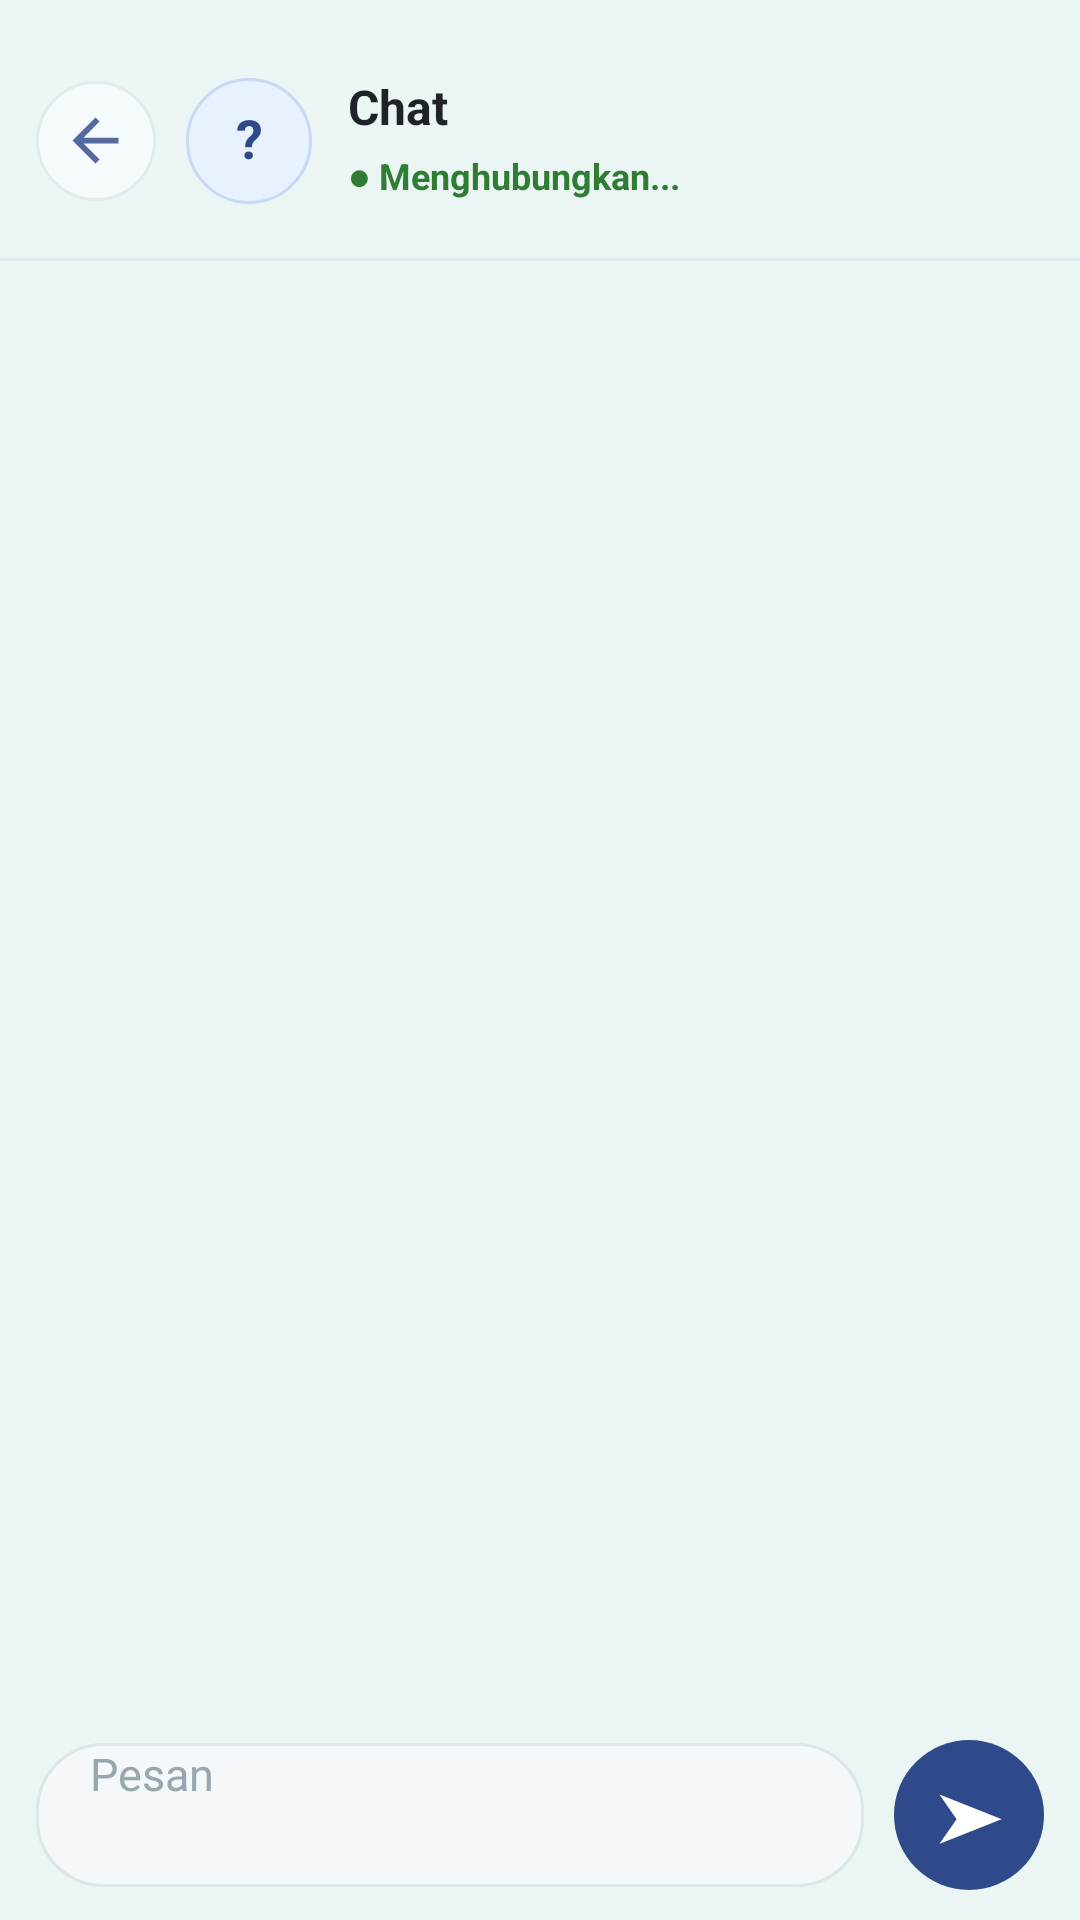

Point at icon controls on the screen. Image size 1080w x 1920h, points as (x=x, y=y).
Kembali: (x=95, y=140)
